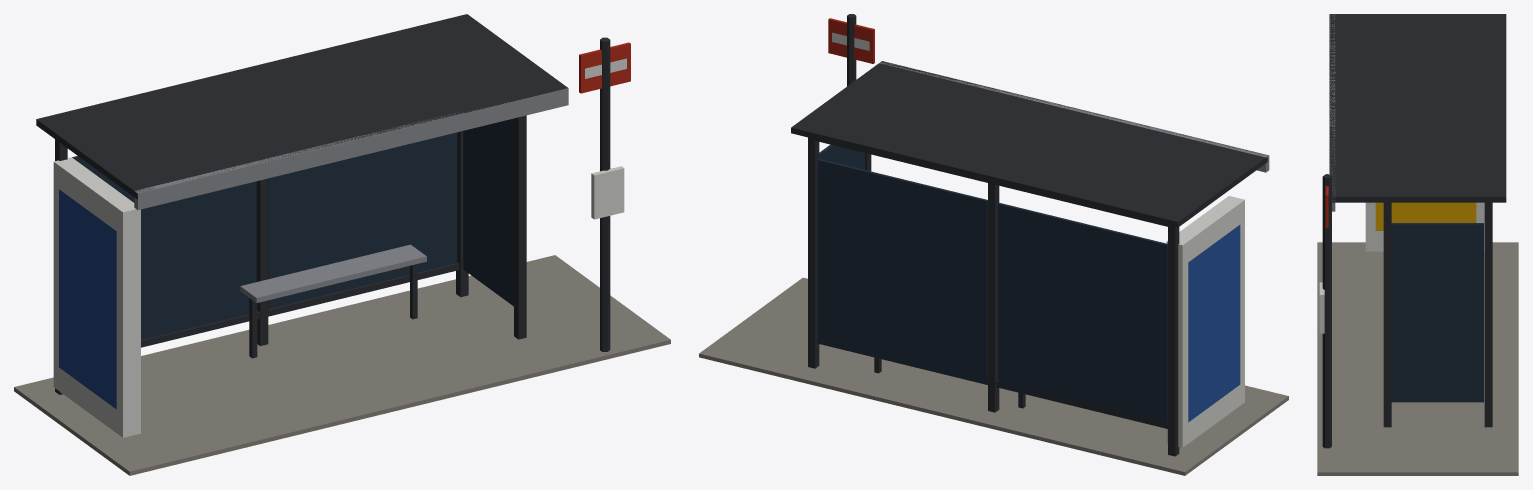
File: prop_bus-shelter.094bef4a6f81.glb
3 renders of one model, left to right at view 1: azimuth 30°, elevation 25°; view 2: azimuth 150°, elevation 25°; view 3: azimuth 270°, elevation 25°, orthographic. The views are drawn at different scales.
Parts seen in each view (by area): view 1: body; view 2: body; view 3: body.
Boxes of the visible parts, x1,y1,x2,y2 form: body: (14, 14, 670, 475); body: (699, 14, 1288, 475); body: (1317, 14, 1518, 475).
Size of the model in its own units: 5.4 by 3 by 2.
